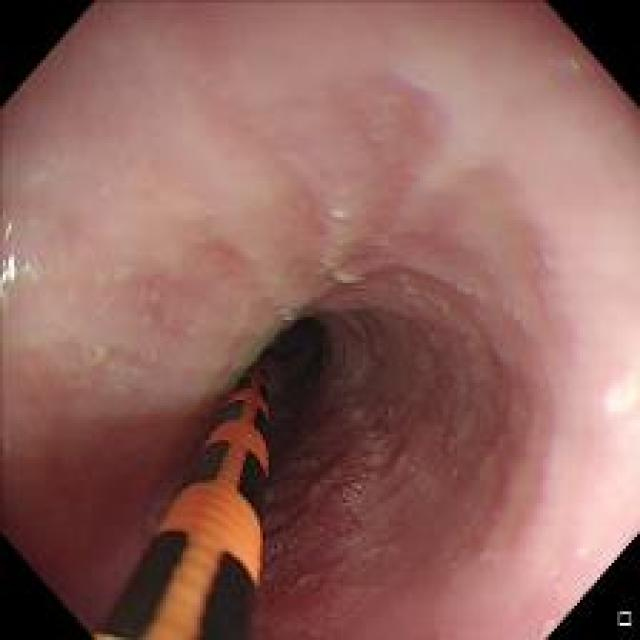color misalignment: (556, 46, 600, 84), (4, 250, 42, 279)
contrast: (259, 321, 324, 431)
instrument: (95, 336, 272, 632)
specularity: (4, 220, 19, 300)
